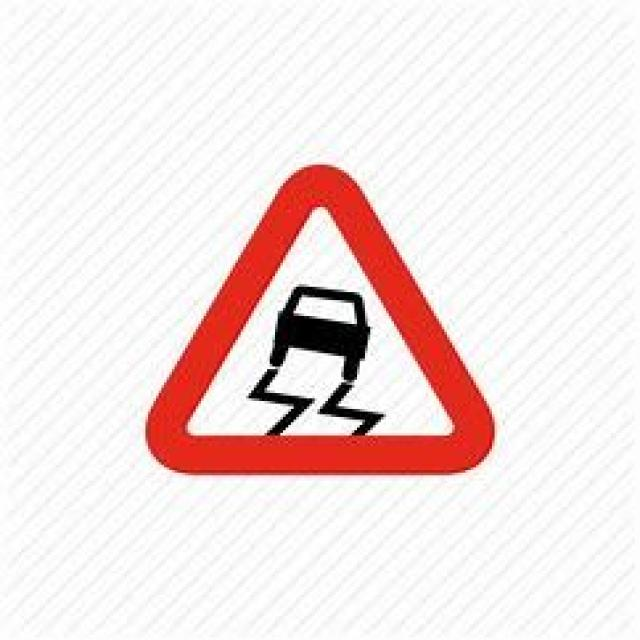children: (143, 162, 494, 475)
